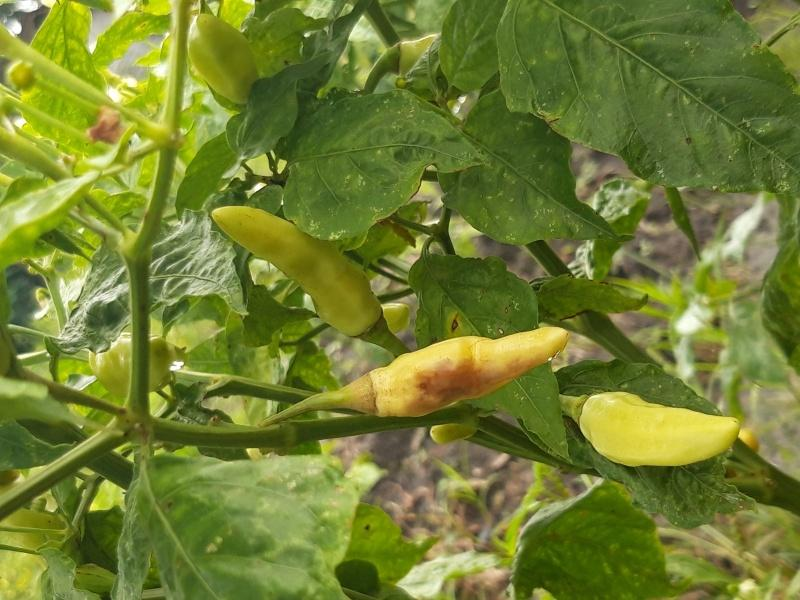cabai_normal: (208, 205, 383, 340), (578, 389, 740, 469), (189, 10, 258, 105)
lalat_buah: (372, 326, 571, 421)
